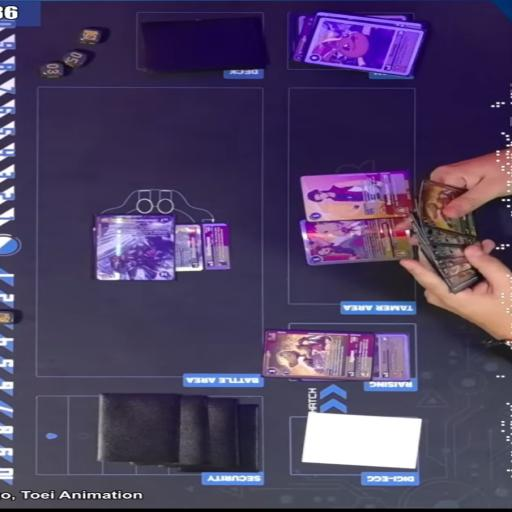card: (306, 20, 424, 78), (262, 327, 376, 385), (298, 217, 413, 263), (305, 172, 416, 218), (94, 216, 170, 280), (418, 179, 475, 233), (374, 338, 417, 386), (170, 226, 203, 272), (204, 225, 231, 272), (419, 227, 484, 246), (426, 244, 483, 259)
